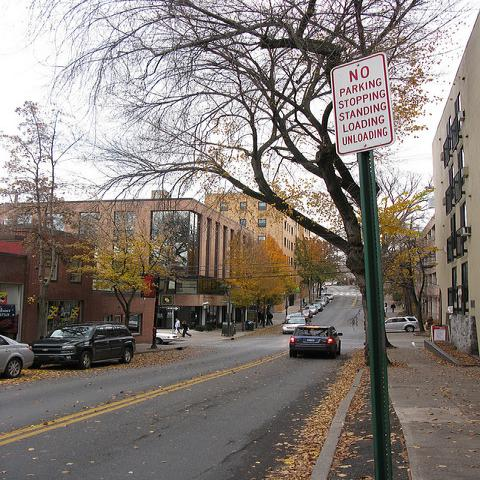car: (28, 322, 137, 370), (289, 324, 343, 359), (0, 335, 34, 378), (282, 316, 313, 334), (384, 317, 418, 331), (155, 329, 180, 344), (129, 315, 139, 332), (298, 309, 314, 317), (304, 305, 318, 314), (314, 299, 328, 307), (324, 292, 335, 300), (313, 303, 322, 311), (320, 296, 329, 304)
